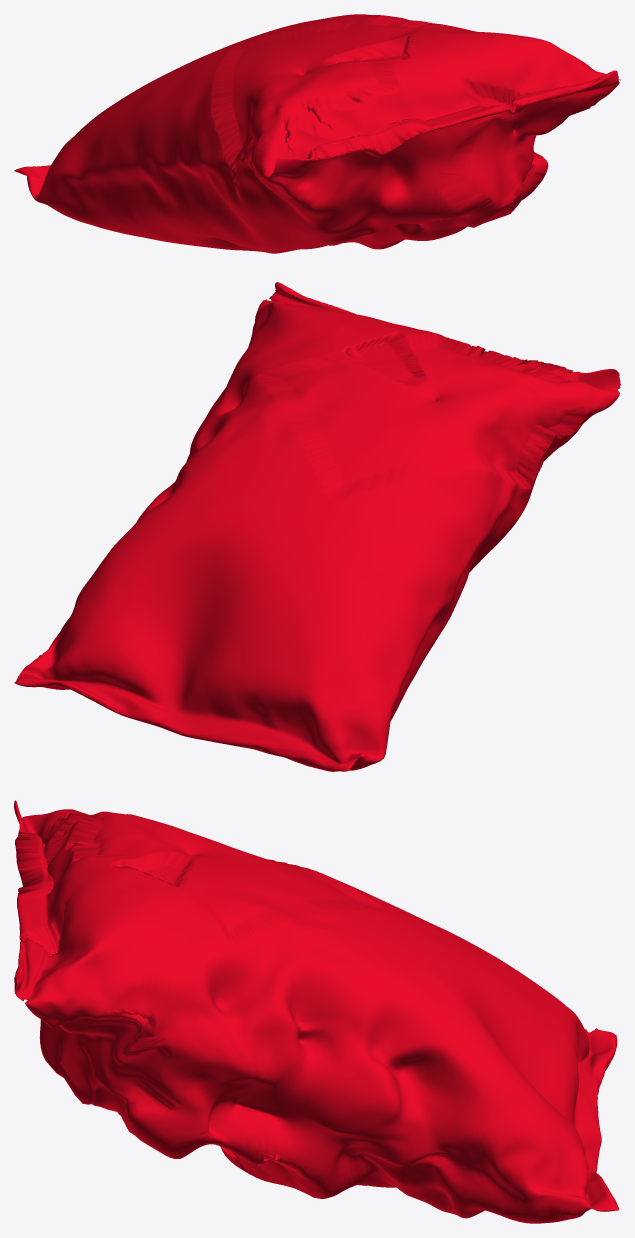
The model's file is basura.glb.
3 views of the same model, one above another, from view 1: azimuth 30°, elevation 25°; view 2: azimuth 150°, elevation 25°; view 3: azimuth 270°, elevation 25° (orthographic). The views are drawn at different scales.
Parts seen in each view (by area): view 1: uploads_files_1000330_chips_bags_01; view 2: uploads_files_1000330_chips_bags_01; view 3: uploads_files_1000330_chips_bags_01.
Part boxes in pixels (x1,y1,x2,y2): uploads_files_1000330_chips_bags_01: [14, 14, 620, 253]; uploads_files_1000330_chips_bags_01: [14, 282, 620, 771]; uploads_files_1000330_chips_bags_01: [14, 800, 618, 1223].
Bounding box in the file's own units: 5.94 × 4.3 × 7.79.
